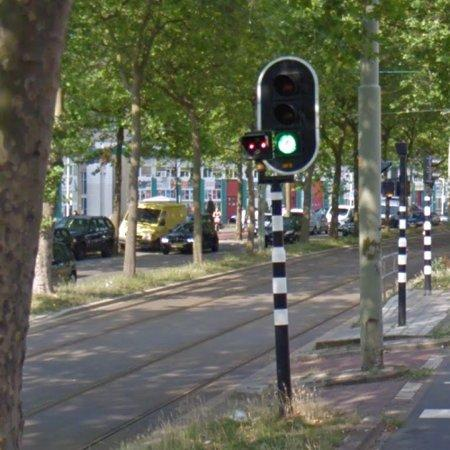traffic lights: (258, 56, 319, 174)
